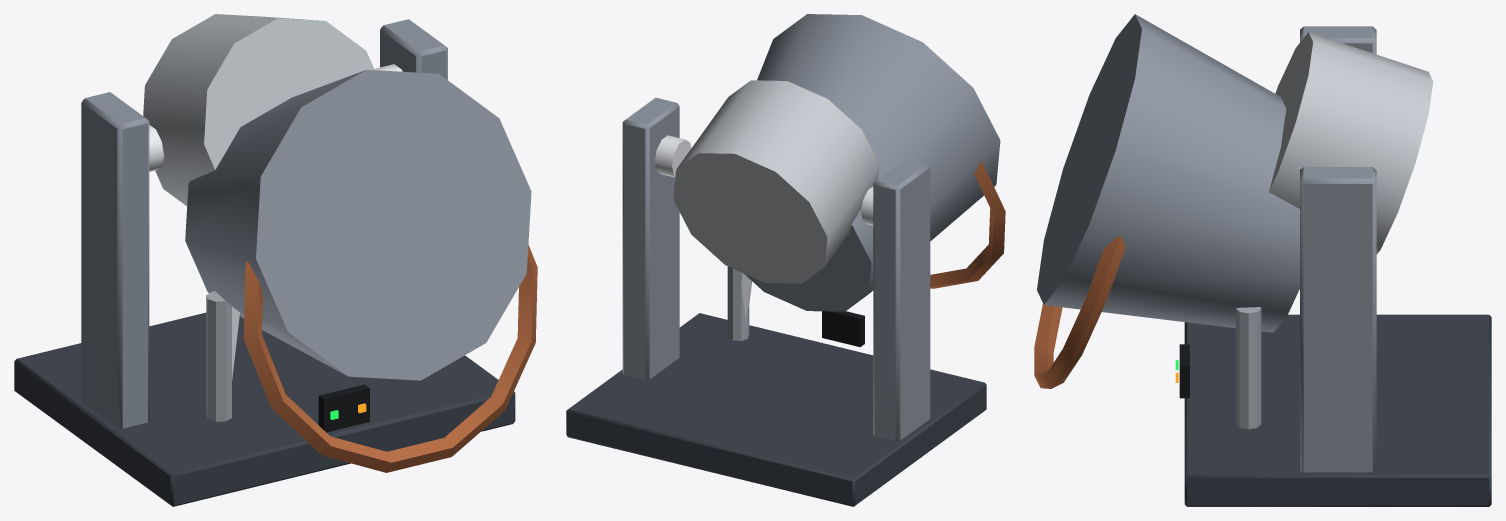
File: nozzle_vectoring_nozzle.glb
3 renders of one model, left to right at view 1: azimuth 30°, elevation 25°; view 2: azimuth 150°, elevation 25°; view 3: azimuth 270°, elevation 25°, orthographic. The views are drawn at different scales.
Visible parts, largest first — view 1: nozzle_vectoring_nozzle; view 2: nozzle_vectoring_nozzle; view 3: nozzle_vectoring_nozzle.
Boxes of the visible parts, x1,y1,x2,y2 form: nozzle_vectoring_nozzle: [14, 14, 537, 506]; nozzle_vectoring_nozzle: [566, 14, 1005, 506]; nozzle_vectoring_nozzle: [1034, 14, 1491, 506].
Bounding box in the file's own units: 1.5 × 1.72 × 1.79.
